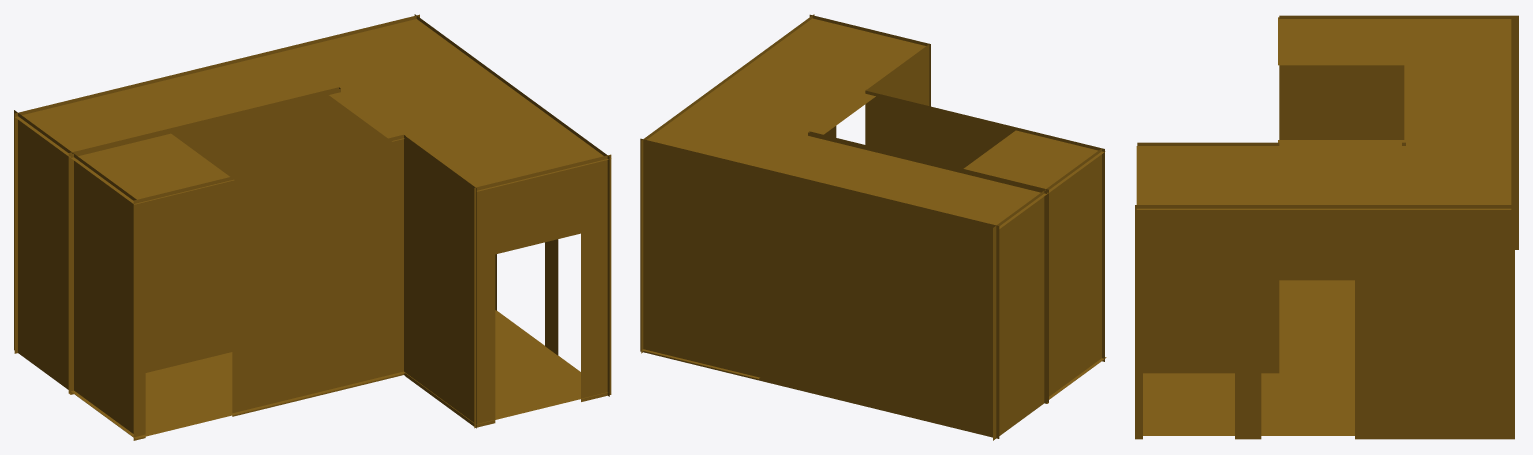
Rendered from LivingPA.fbx.
The picture shows the model from 3 angles, left to right: view 1: azimuth 30°, elevation 25°; view 2: azimuth 150°, elevation 25°; view 3: azimuth 270°, elevation 25°; orthographic projection. The views are drawn at different scales.
Parts seen in each view (by area): view 1: ParedLivingPA, TechoLiving, ParedLivingPA6, ParedLivingPA5, ParedLivingPA2, ParedLivingPA4, PisoLiving, ParedLivingPA3, ParedLivingPA1; view 2: ParedLivingPA3, TechoLiving, ParedLivingPA6, ParedLivingPA, ParedLivingPA5, ParedLivingPA4, ParedLivingPA1, ParedLivingPA2, PisoLiving; view 3: ParedLivingPA1, TechoLiving, PisoLiving, ParedLivingPA6, ParedLivingPA4, ParedLivingPA.
Boxes of the visible parts, x1,y1,x2,y2 form: ParedLivingPA: (133,134,405,440); TechoLiving: (15,19,611,204); ParedLivingPA6: (14,110,136,437); ParedLivingPA5: (68,87,340,394); ParedLivingPA2: (474,154,611,428); ParedLivingPA4: (405,137,476,428); PisoLiving: (71,310,607,438); ParedLivingPA3: (14,14,419,353); ParedLivingPA1: (414,14,609,396); ParedLivingPA3: (640,138,999,438); TechoLiving: (647,18,1105,228); ParedLivingPA6: (993,148,1101,440); ParedLivingPA: (865,89,1104,361); ParedLivingPA5: (808,131,1048,403); ParedLivingPA4: (866,44,929,105); ParedLivingPA1: (641,14,814,353); ParedLivingPA2: (809,14,930,137); PisoLiving: (642,349,1106,399); ParedLivingPA1: (1135,205,1514,439); TechoLiving: (1136,17,1511,209); PisoLiving: (1143,280,1354,435); ParedLivingPA6: (1279,15,1518,249); ParedLivingPA4: (1137,142,1276,373); ParedLivingPA: (1275,142,1279,373).
Bounding box in the file's own units: 600 × 340 × 505.
